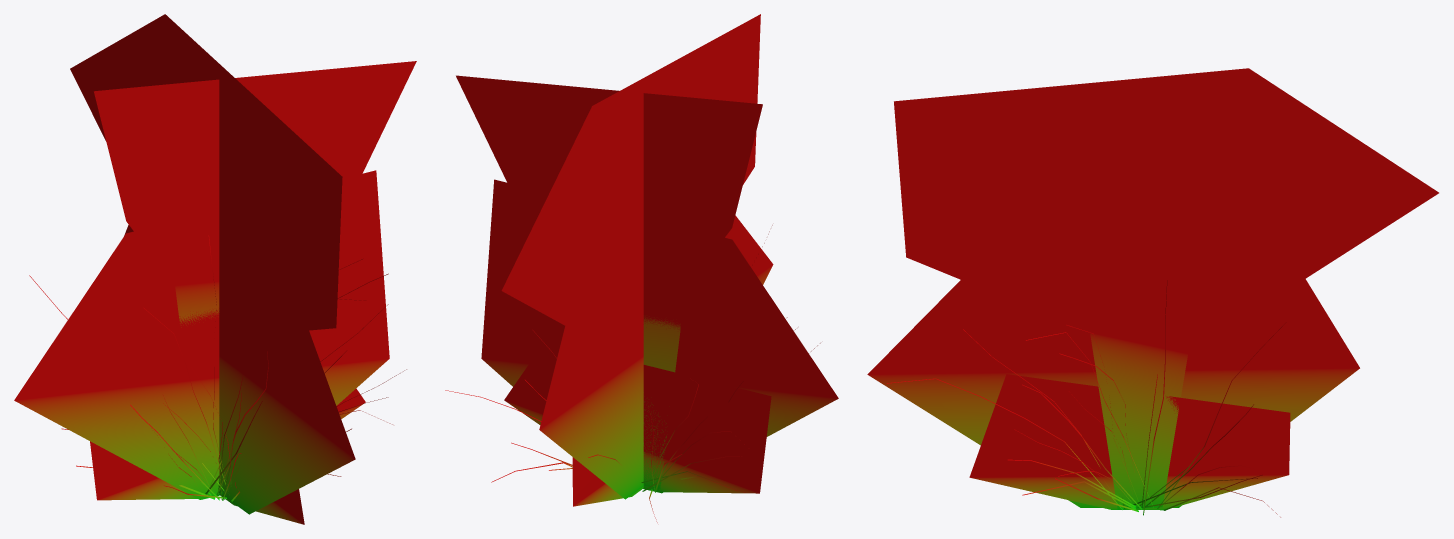
File: Xeric Grass_LOD5_Var7_xjfgdhaqx.fbx
3 views of the same model, side by side, from view 1: azimuth 30°, elevation 25°; view 2: azimuth 150°, elevation 25°; view 3: azimuth 270°, elevation 25° (orthographic). The views are drawn at different scales.
Visible parts, largest first — view 1: _8xbe_Var7_LOD5; view 2: _8xbe_Var7_LOD5; view 3: _8xbe_Var7_LOD5.
Boxes of the visible parts, box(x1,y1,x2,y2) form: _8xbe_Var7_LOD5: box(14, 14, 416, 524); _8xbe_Var7_LOD5: box(445, 14, 838, 522); _8xbe_Var7_LOD5: box(867, 68, 1438, 517).
Bounding box in the file's own units: 336 × 353 × 413.
